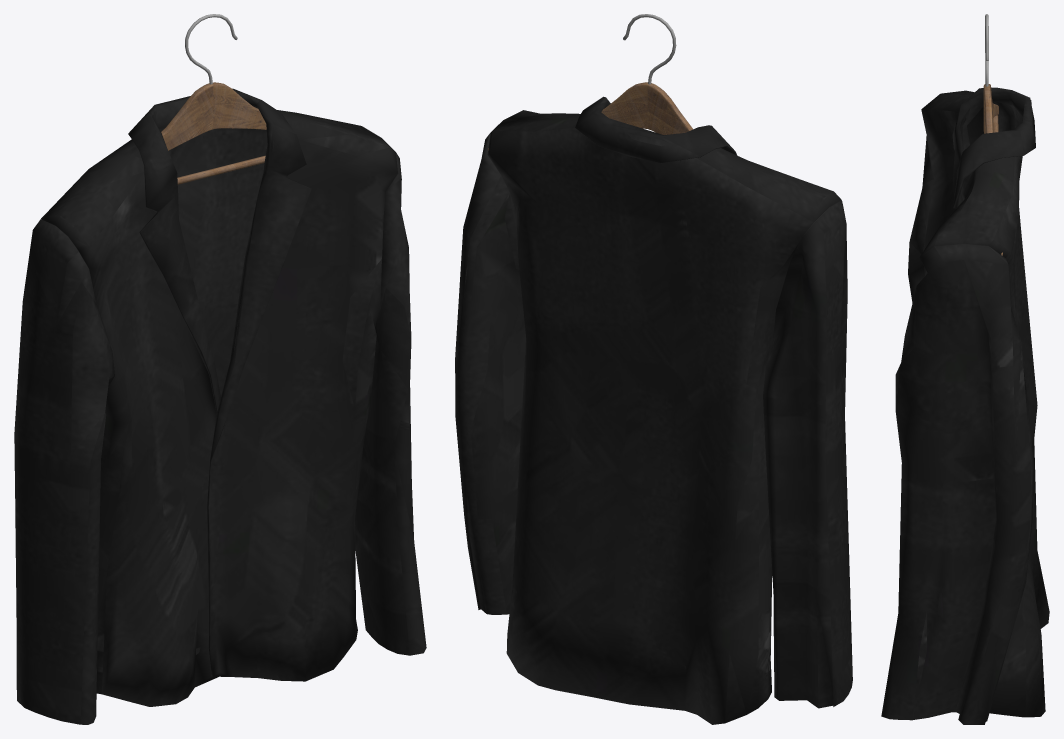
The model's file is jacket_016.glb.
3 views of the same model, side by side, from view 1: azimuth 30°, elevation 25°; view 2: azimuth 150°, elevation 25°; view 3: azimuth 270°, elevation 25° (orthographic). The views are drawn at different scales.
Parts seen in each view (by area): view 1: jacket_016_StaticMeshComponent0, BP_Hangers_for_clothes322_StaticMeshComponent0; view 2: jacket_016_StaticMeshComponent0, BP_Hangers_for_clothes322_StaticMeshComponent0; view 3: jacket_016_StaticMeshComponent0, BP_Hangers_for_clothes322_StaticMeshComponent0.
Part boxes in pixels (x1,y1,x2,y2): jacket_016_StaticMeshComponent0: (14, 88, 426, 724); BP_Hangers_for_clothes322_StaticMeshComponent0: (161, 14, 266, 184); jacket_016_StaticMeshComponent0: (455, 96, 852, 724); BP_Hangers_for_clothes322_StaticMeshComponent0: (488, 14, 692, 150); jacket_016_StaticMeshComponent0: (881, 87, 1049, 724); BP_Hangers_for_clothes322_StaticMeshComponent0: (983, 14, 1002, 255).
Size of the model in its own units: 0.5263 by 0.9153 by 0.2122.
3 materials, 2 textured.
